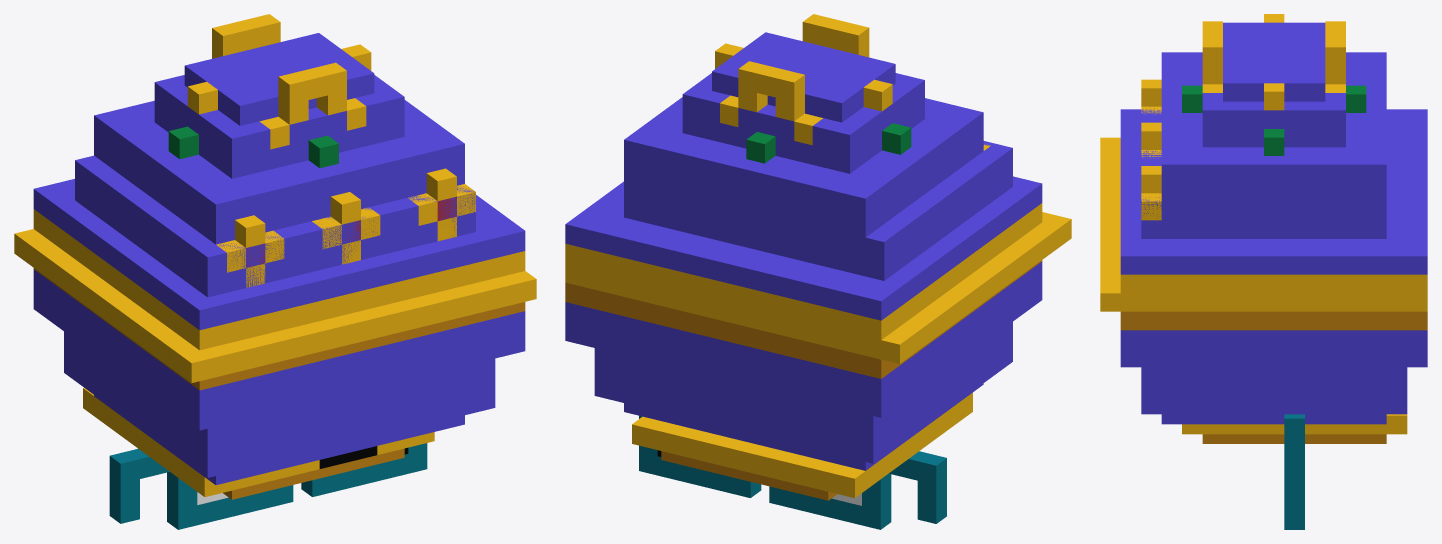
The model's file is fabergeegg.glb.
3 views of the same model, side by side, from view 1: azimuth 30°, elevation 25°; view 2: azimuth 150°, elevation 25°; view 3: azimuth 270°, elevation 25° (orthographic). The views are drawn at different scales.
Visible parts, largest first — view 1: base, base-2, glasses, mouth; view 2: base, base-2, glasses; view 3: base, base-2, glasses.
Boxes of the visible parts, box(x1,y1,x2,y2) form: base: box(33, 14, 525, 499); base-2: box(14, 155, 536, 383); glasses: box(109, 443, 427, 529); mouth: box(246, 197, 456, 468); base: box(565, 14, 1042, 500); base-2: box(565, 141, 1071, 363); glasses: box(639, 415, 946, 529); base: box(1120, 14, 1427, 443); base-2: box(1100, 108, 1427, 311); glasses: box(1284, 414, 1304, 529).
Size of the model in its own units: 18 by 23 by 16.
12 materials, 12 textured.
